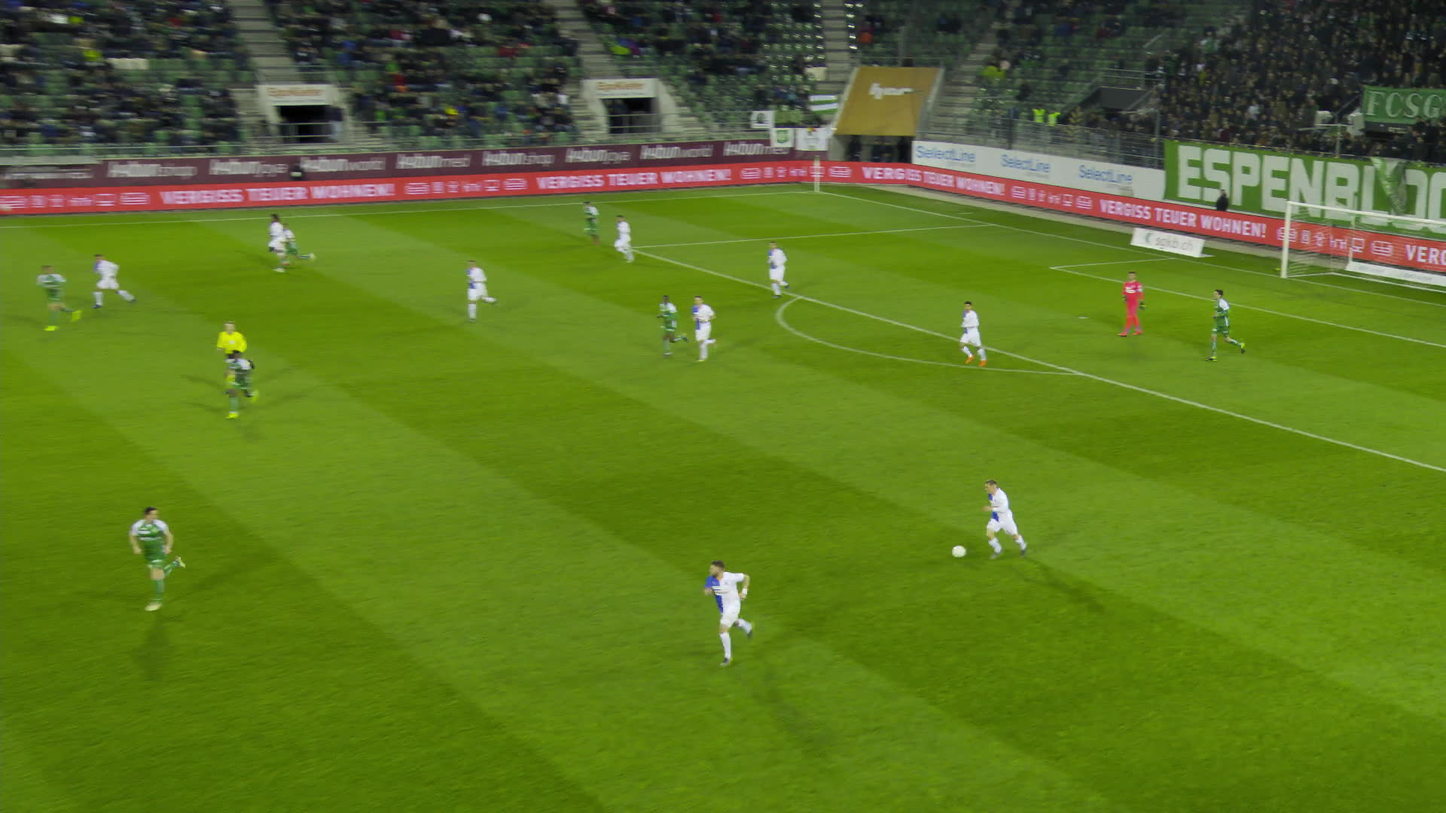ball: (957, 545, 972, 558)
player: (120, 505, 189, 607), (701, 562, 746, 664), (985, 480, 1027, 563), (28, 267, 68, 331), (1205, 290, 1240, 361), (652, 293, 685, 358), (687, 293, 718, 361), (84, 254, 121, 310), (217, 350, 248, 415), (456, 258, 487, 321), (956, 303, 982, 369), (273, 222, 307, 272), (1118, 270, 1142, 336), (762, 239, 786, 299), (261, 212, 283, 266), (575, 201, 596, 246), (614, 215, 633, 263)
referee: (209, 318, 252, 390)
